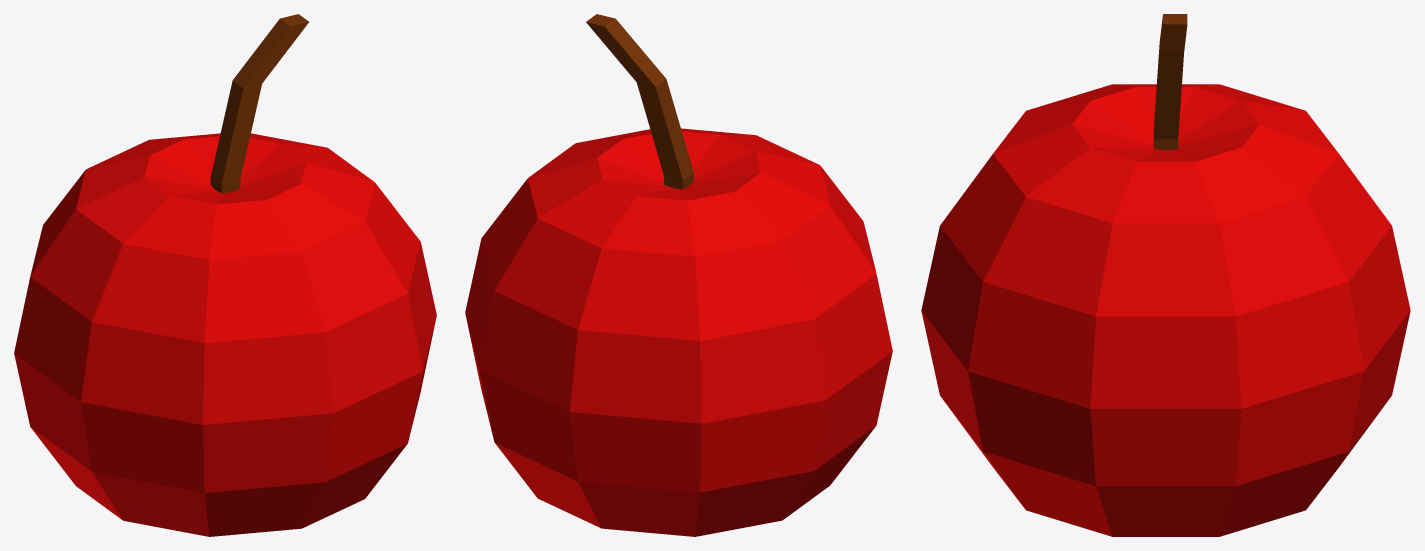
File: pomme1.glb
3 renders of one model, left to right at view 1: azimuth 30°, elevation 25°; view 2: azimuth 150°, elevation 25°; view 3: azimuth 270°, elevation 25°, orthographic. The views are drawn at different scales.
Visible parts, largest first — view 1: Pomme; view 2: Pomme; view 3: Pomme.
Boxes of the visible parts, x1,y1,x2,y2 form: Pomme: (14,14,436,536); Pomme: (465,14,892,536); Pomme: (921,14,1410,536).
Bounding box in the file's own units: 1.9 × 2.35 × 2.
